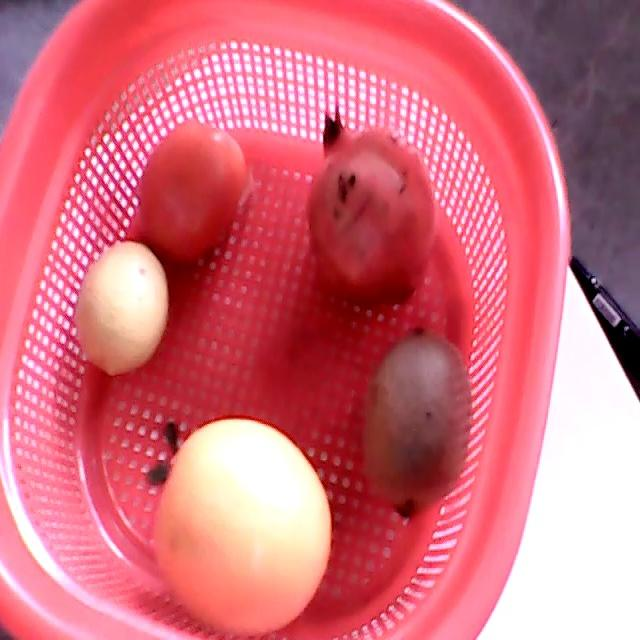kiwi: (366, 326, 471, 519)
lemon: (76, 242, 169, 376)
orange: (154, 419, 332, 638)
pomegranate: (306, 105, 435, 306)
tomato: (137, 124, 246, 265)
